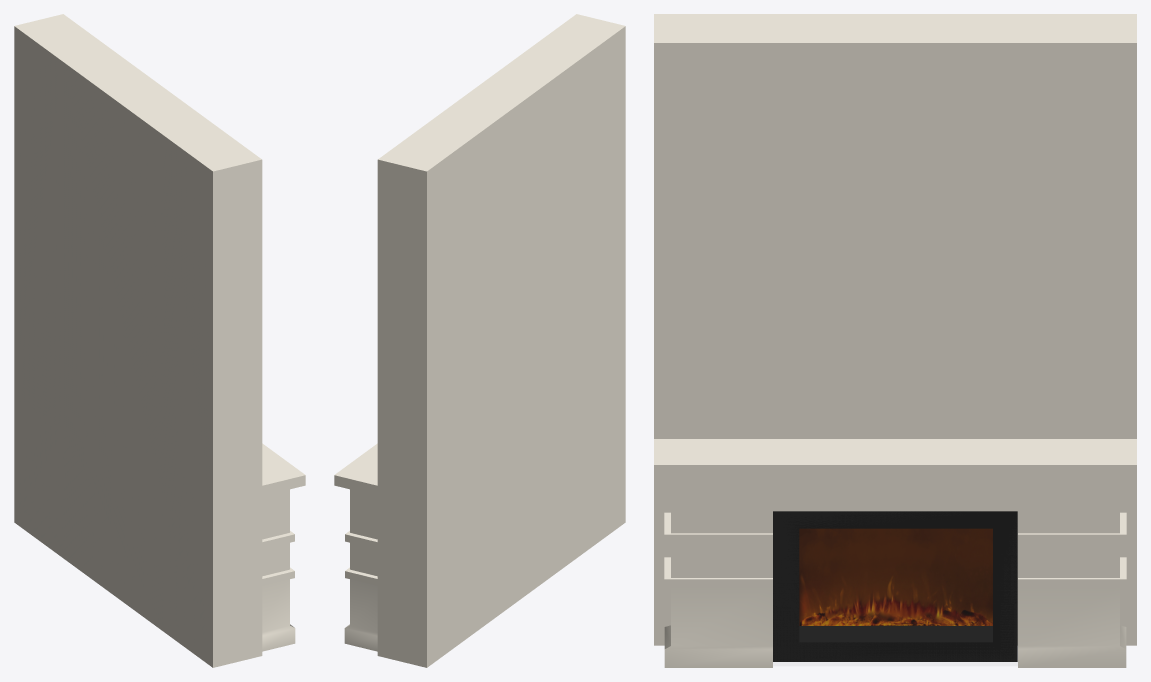
Rendered from fbx_fireplace.fbx.
3 views of the same model, side by side, from view 1: azimuth 30°, elevation 25°; view 2: azimuth 150°, elevation 25°; view 3: azimuth 270°, elevation 25° (orthographic). The views are drawn at different scales.
Visible parts, largest first — view 1: fbx_fireplace; view 2: fbx_fireplace; view 3: fbx_fireplace.
Part boxes in pixels (left/top/right/bottom): fbx_fireplace: left=14, top=14, right=305, bottom=667; fbx_fireplace: left=334, top=14, right=625, bottom=667; fbx_fireplace: left=654, top=14, right=1136, bottom=667.
Size of the model in its own units: 1.33 by 6.8 by 4.94.
Materials: 2 (1 with a texture image).
